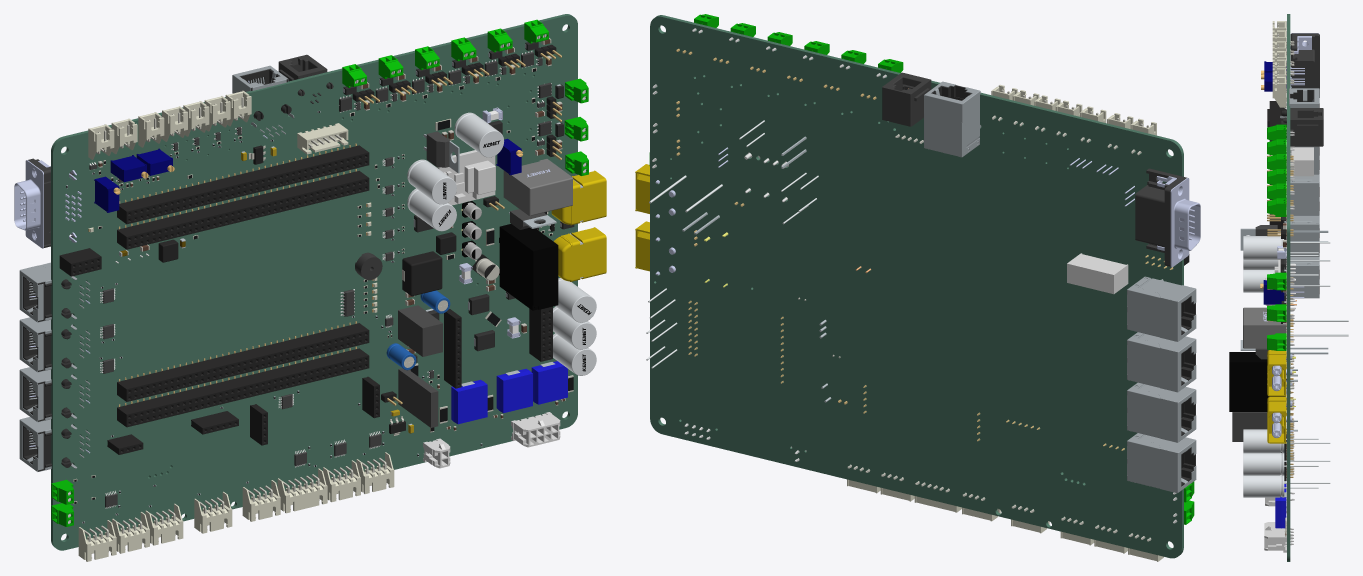
Rendered from ventilator-controller.glb.
3 renders of one model, left to right at view 1: azimuth 30°, elevation 25°; view 2: azimuth 150°, elevation 25°; view 3: azimuth 270°, elevation 25°, orthographic. The views are drawn at different scales.
Visible parts, largest first — view 1: =>[0:1:1:62], =>[0:1:1:2] (×6), J4010, J4009, J4011, J4012, NAUO11 (×5), K2001, NAUO1 (×2), NAUO9 (×4), J9001, C2020 (+27 smaller); view 2: =>[0:1:1:62], NAUO11 (×5), J9001, J7001, PS2003, NAUO1 (×2); view 3: NAUO11 (×5), K2001, =>[0:1:1:62], =>[0:1:1:2] (×4), NAUO1 (×2), J9001, C2020, J7001, C3014, C3009, C2025, C3016 (+25 smaller).
Boxes of the visible parts, <box> form: =>[0:1:1:62]: <box>51,14,577,550</box>; =>[0:1:1:2] (×6): <box>398,305,567,447</box>; J4010: <box>117,321,369,401</box>; J4009: <box>117,169,369,249</box>; J4011: <box>117,346,369,427</box>; J4012: <box>117,143,369,224</box>; NAUO11 (×5): <box>19,65,294,471</box>; K2001: <box>499,224,558,310</box>; NAUO1 (×2): <box>551,170,606,281</box>; NAUO9 (×4): <box>23,276,72,471</box>; J9001: <box>14,158,81,248</box>; C2020: <box>503,159,572,215</box>; =>[0:1:1:62]: <box>650,15,1183,558</box>; NAUO11 (×5): <box>924,81,1196,493</box>; J9001: <box>1135,168,1200,267</box>; J7001: <box>882,72,931,126</box>; PS2003: <box>1067,253,1128,294</box>; NAUO1 (×2): <box>635,164,675,275</box>; NAUO11 (×5): <box>1280,88,1319,298</box>; K2001: <box>1229,352,1295,411</box>; =>[0:1:1:62]: <box>1287,14,1290,561</box>; =>[0:1:1:2] (×4): <box>1232,228,1293,552</box>; NAUO1 (×2): <box>1267,350,1292,443</box>; J9001: <box>1286,33,1319,105</box>; C2020: <box>1243,307,1348,348</box>; J7001: <box>1283,108,1323,146</box>; C3014: <box>1243,452,1330,475</box>; C3009: <box>1243,474,1330,497</box>; C2025: <box>1243,236,1330,259</box>; C3016: <box>1243,429,1330,453</box>.
Size of the model in its own units: 0.2361 by 0.1702 by 0.052.
